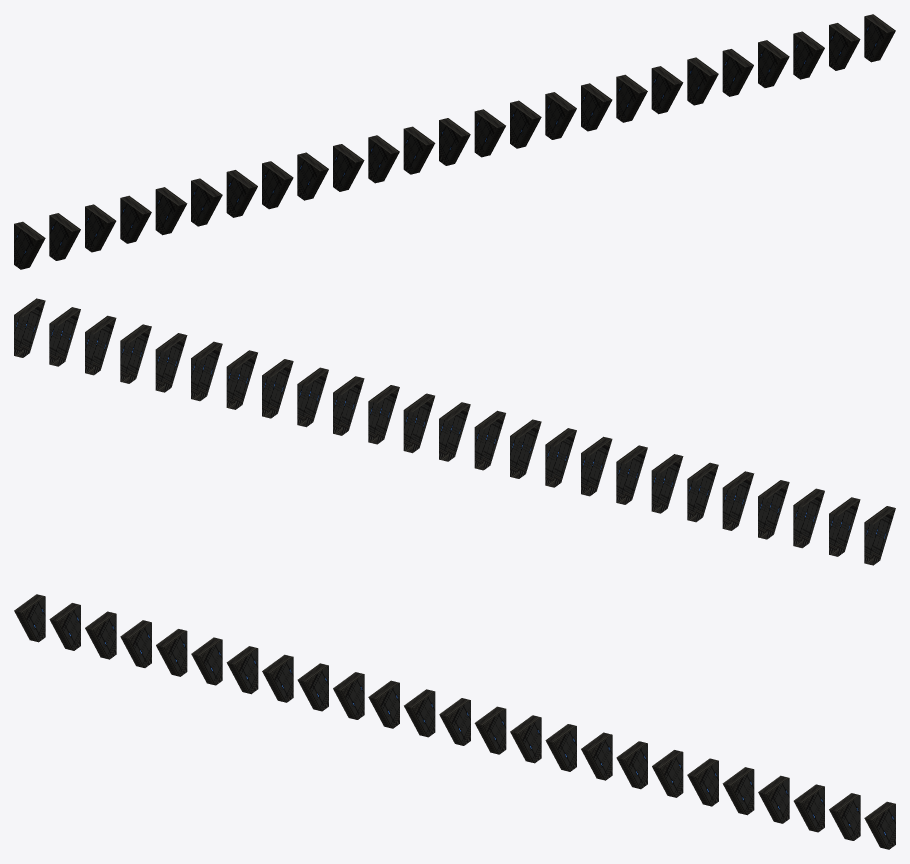
File: Ultra_Addon5.fbx
The picture shows the model from 3 angles, top to bottom: view 1: azimuth 30°, elevation 25°; view 2: azimuth 150°, elevation 25°; view 3: azimuth 330°, elevation 25°; orthographic projection.
Visible parts, largest first — view 1: polySurface74; view 2: polySurface74; view 3: polySurface74.
Part boxes in pixels (box(x1,y1,x2,y2)): polySurface74: box(14, 14, 895, 269); polySurface74: box(14, 298, 895, 565); polySurface74: box(14, 594, 895, 849).
Bounding box in the file's own units: 48.51 × 2.21 × 2.21.
Materials: 1 (1 with a texture image).
